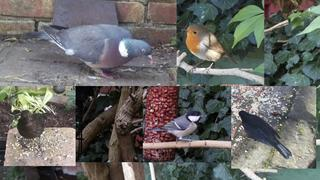blackbird: (238, 110, 292, 159), (16, 110, 52, 154)
great tit: (146, 110, 207, 147)
robin: (181, 24, 240, 77)
wood pigeon: (24, 24, 153, 80)
